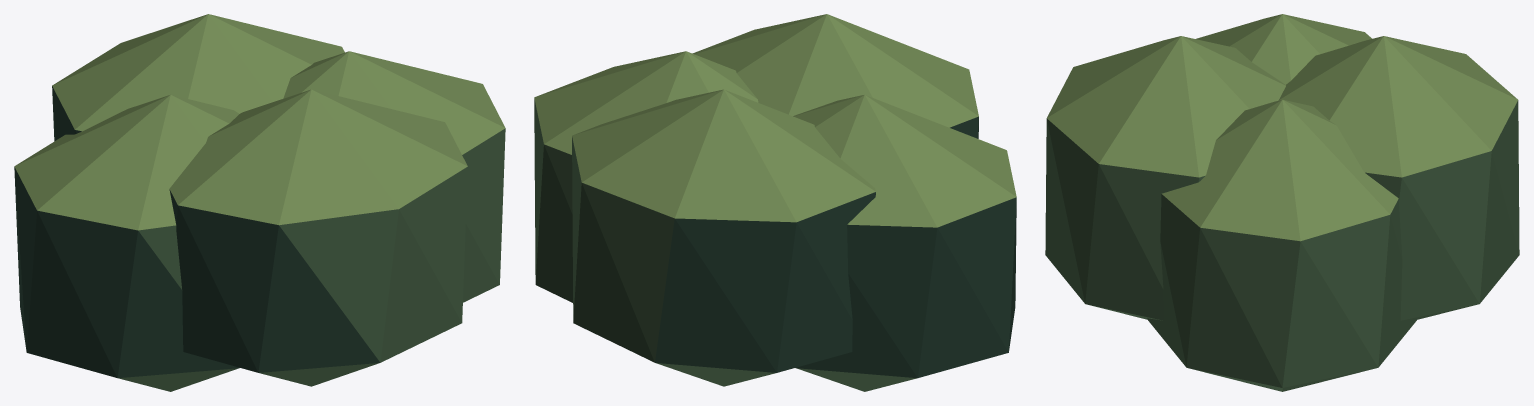
File: TW_VEG_BUSH_ROUND_B_LOD0.glb
The picture shows the model from 3 angles, left to right: view 1: azimuth 30°, elevation 25°; view 2: azimuth 150°, elevation 25°; view 3: azimuth 270°, elevation 25°; orthographic projection.
Parts seen in each view (by area): view 1: TW_VEG_BUSH_ROUND_B_LOD0; view 2: TW_VEG_BUSH_ROUND_B_LOD0; view 3: TW_VEG_BUSH_ROUND_B_LOD0.
Part boxes in pixels (box(x1,y1,x2,y2)): TW_VEG_BUSH_ROUND_B_LOD0: box(14, 14, 505, 391); TW_VEG_BUSH_ROUND_B_LOD0: box(534, 14, 1016, 391); TW_VEG_BUSH_ROUND_B_LOD0: box(1045, 14, 1519, 391).
Bounding box in the file's own units: 1.15 × 0.75 × 1.03.
Materials: 1 (1 with a texture image).
